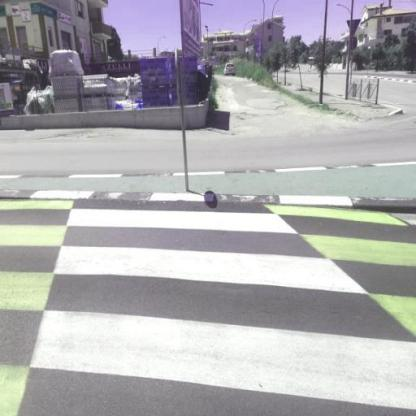crosswalk: (49, 205, 370, 300)
